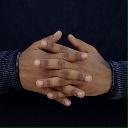hand: (19, 30, 92, 106), (34, 33, 113, 99)
